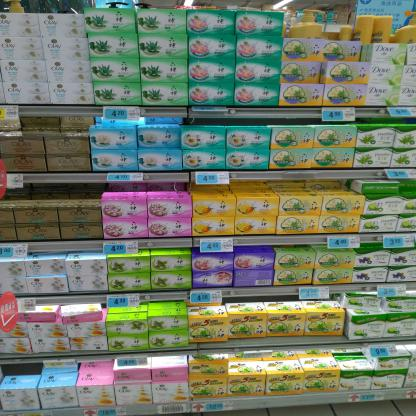Void: (23, 109, 86, 133), (24, 184, 105, 199), (6, 362, 41, 374)
